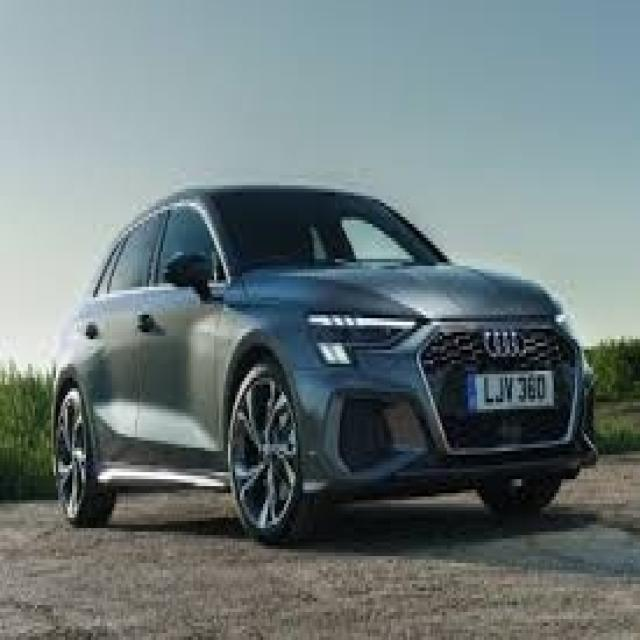black: (51, 198, 598, 534)
